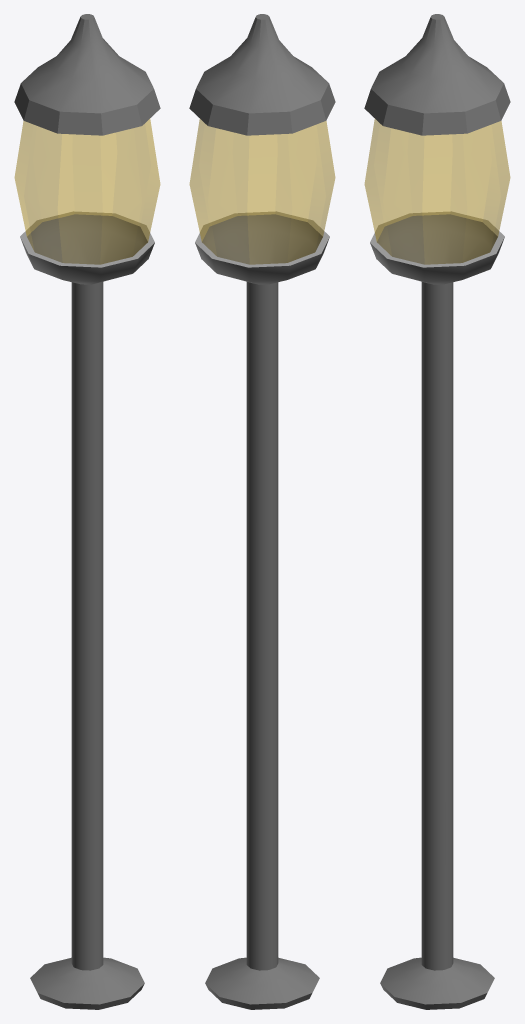
File: StreetLight.fbx
3 renders of one model, left to right at view 1: azimuth 30°, elevation 25°; view 2: azimuth 150°, elevation 25°; view 3: azimuth 330°, elevation 25°, orthographic.
Parts seen in each view (by area): view 1: pCylinder1; view 2: pCylinder1; view 3: pCylinder1.
Boxes of the visible parts, <box> form: pCylinder1: <box>14,14,160,1009</box>; pCylinder1: <box>189,14,335,1009</box>; pCylinder1: <box>364,14,510,1009</box>.
Bounding box in the file's own units: 4.86 × 35.39 × 4.62.
